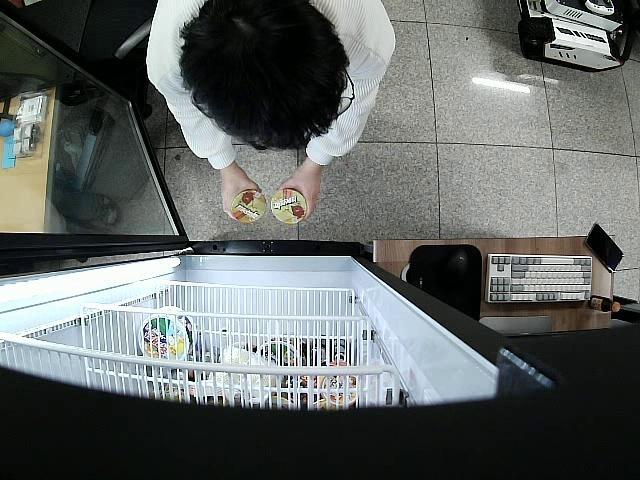04_chapagetti_S: (270, 189, 305, 226), (232, 190, 266, 224)
